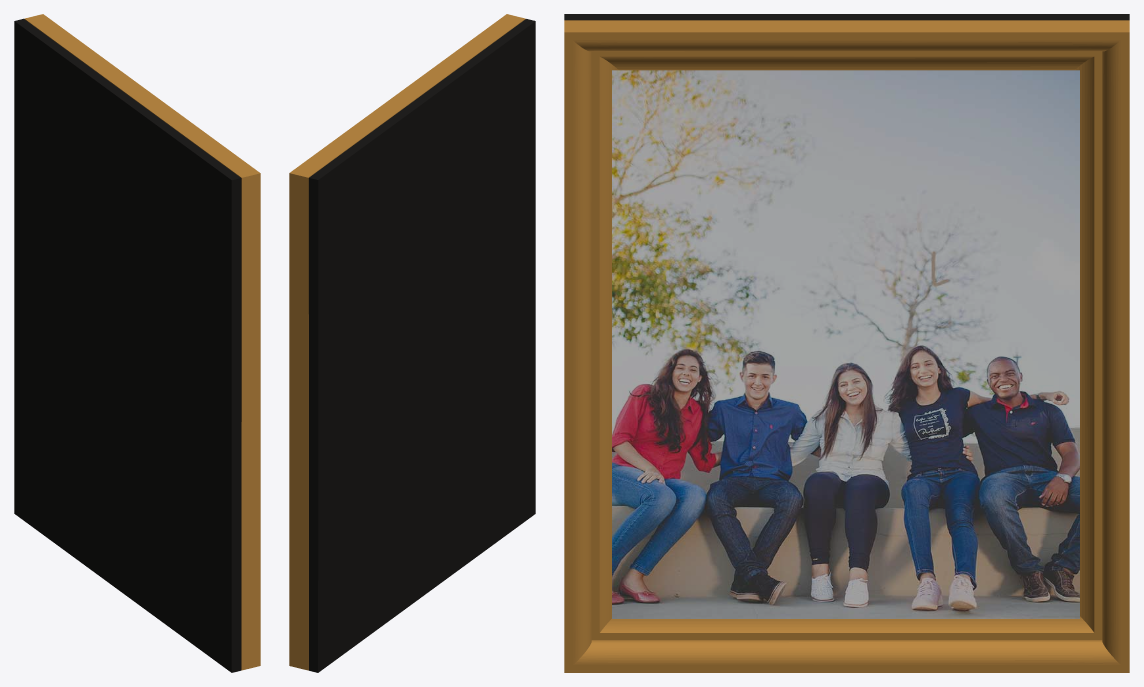
The picture shows the model from 3 angles, left to right: view 1: azimuth 30°, elevation 25°; view 2: azimuth 150°, elevation 25°; view 3: azimuth 270°, elevation 25°; orthographic projection. The views are drawn at different scales.
Parts seen in each view (by area): view 1: frame.001_3.002, back panel.001_2.002; view 2: frame.001_3.002, back panel.001_2.002; view 3: frame.001_3.002, back panel.001_2.002.
Part boxes in pixels (box(x1,y1,x2,y2)): frame.001_3.002: box(14, 18, 241, 672); back panel.001_2.002: box(24, 14, 260, 670); frame.001_3.002: box(308, 19, 535, 672); back panel.001_2.002: box(289, 14, 525, 670); frame.001_3.002: box(564, 14, 1129, 618); back panel.001_2.002: box(564, 20, 1129, 672).
Bounding box in the file's own units: 1.05 × 17.11 × 13.69.
Materials: 3 (1 with a texture image).
